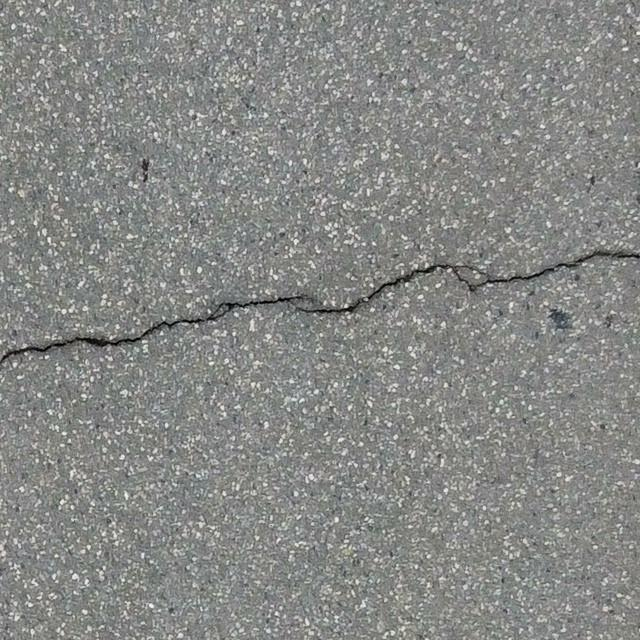TransverseCrack: (1, 250, 640, 365)
